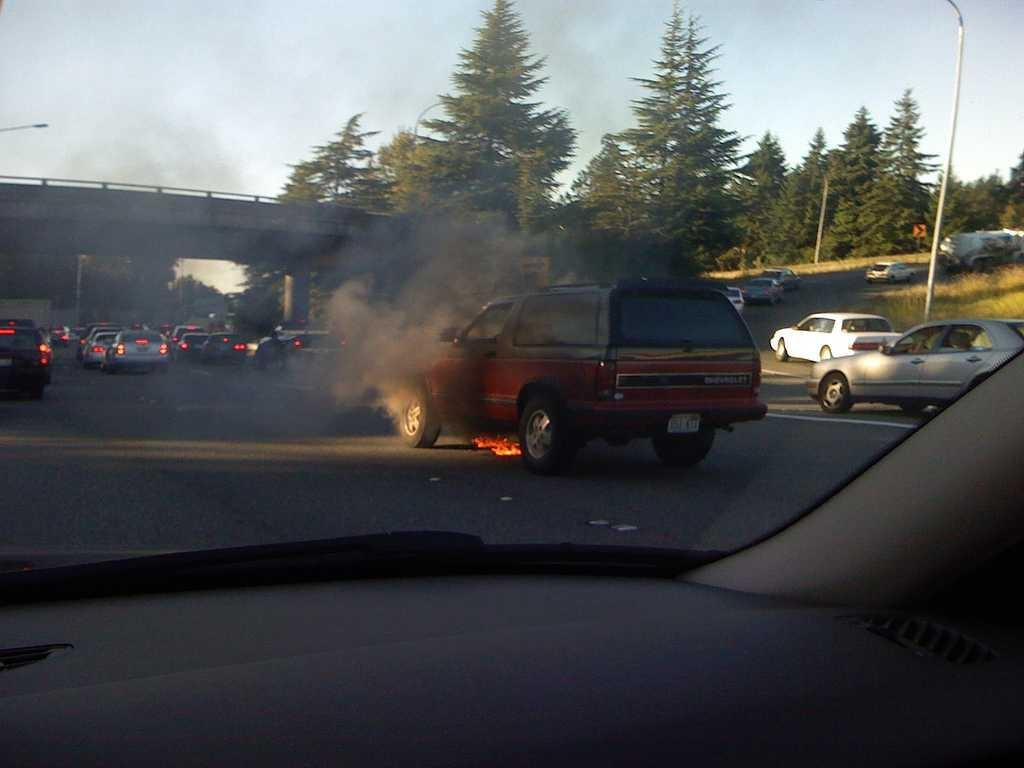fire: (471, 427, 525, 462)
smoke: (317, 281, 447, 410)
